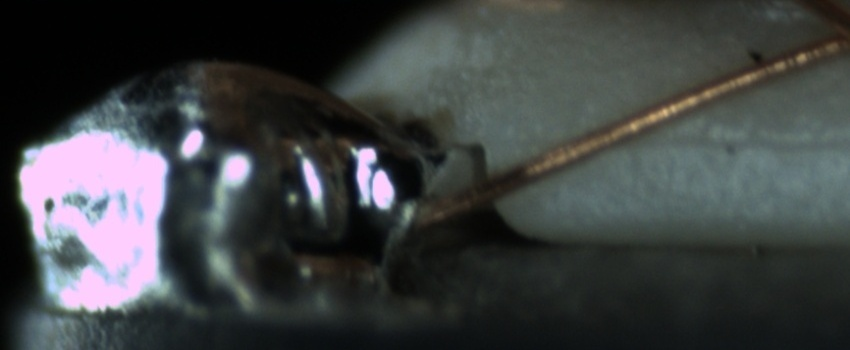DL: (609, 107, 846, 173)
